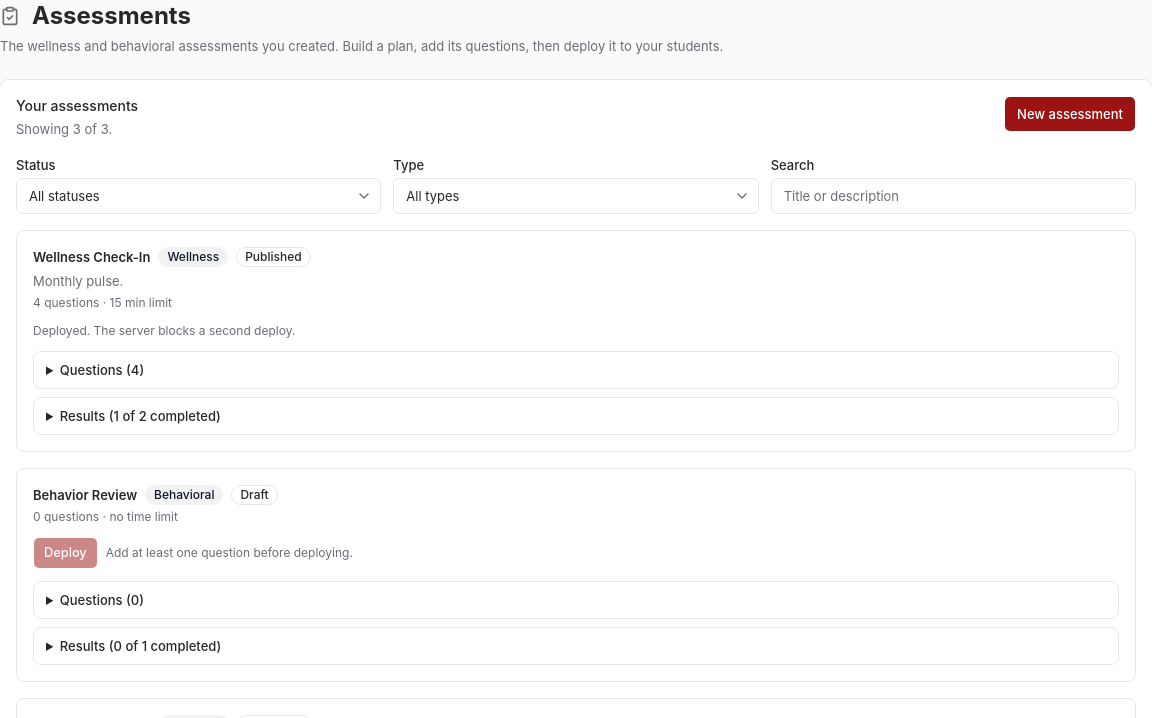
Test case: assessment authoring › offers only the two guidance-owned assessment types
The image size is (1152, 718).
Expected: the heading "Wellness Check-In" is shown, [33, 247, 150, 267]
Click the button "New assessment".
click(1070, 114)  # box [1004, 96, 1136, 132]
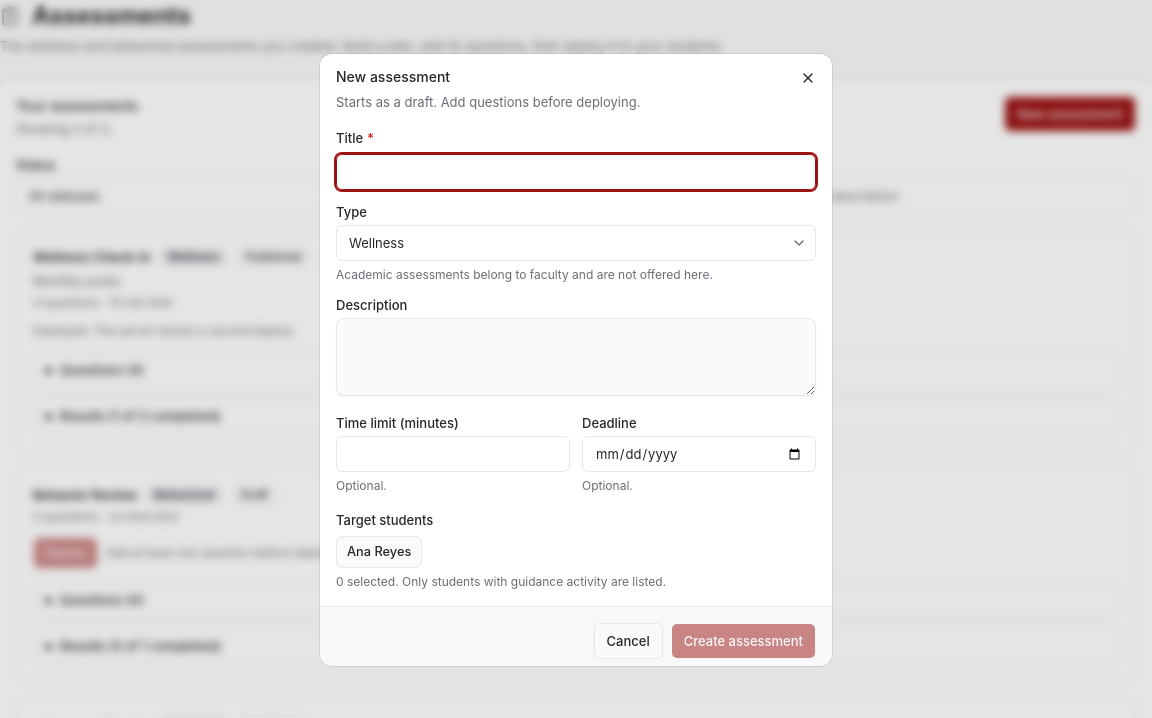
Expected: the dropdown named "Type" is enabled
Press ArrowDown in the dropdown named "Type", box [336, 225, 816, 261]
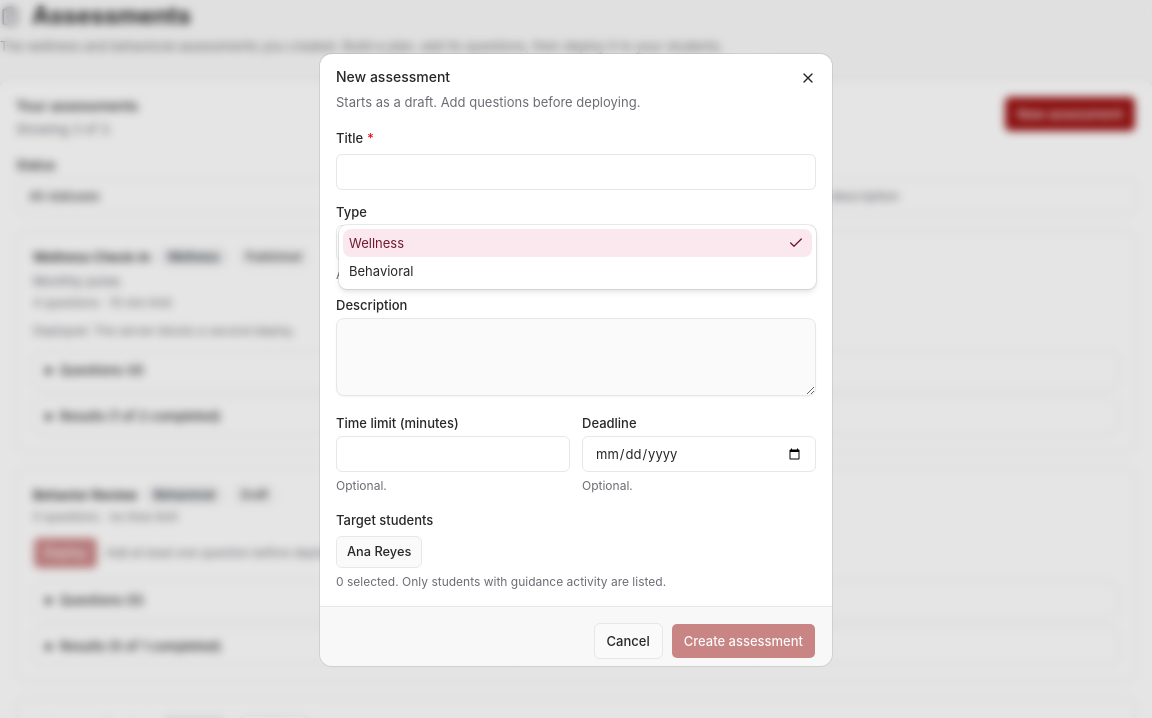
Expected: the option "Wellness" is shown, [343, 229, 812, 257]
Expected: the option "Behavioral" is shown, [349, 263, 414, 279]
